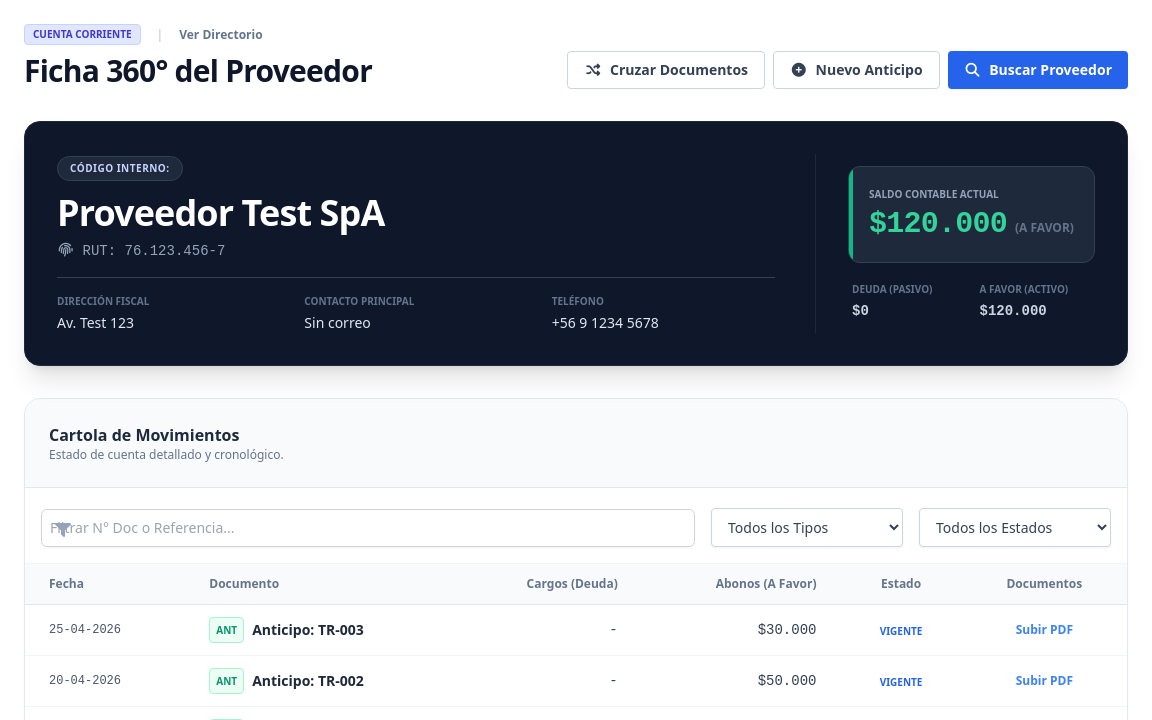
Test: VisorProveedor - anticipos con saldo parcial › muestra badge PARCIAL en anticipo con saldo_disponible < monto_original
Expected: the heading "Proveedor Test SpA" is shown, [57, 188, 384, 237]
Click the button "Cruzar Documentos".
click(666, 70)  # box [568, 51, 765, 89]
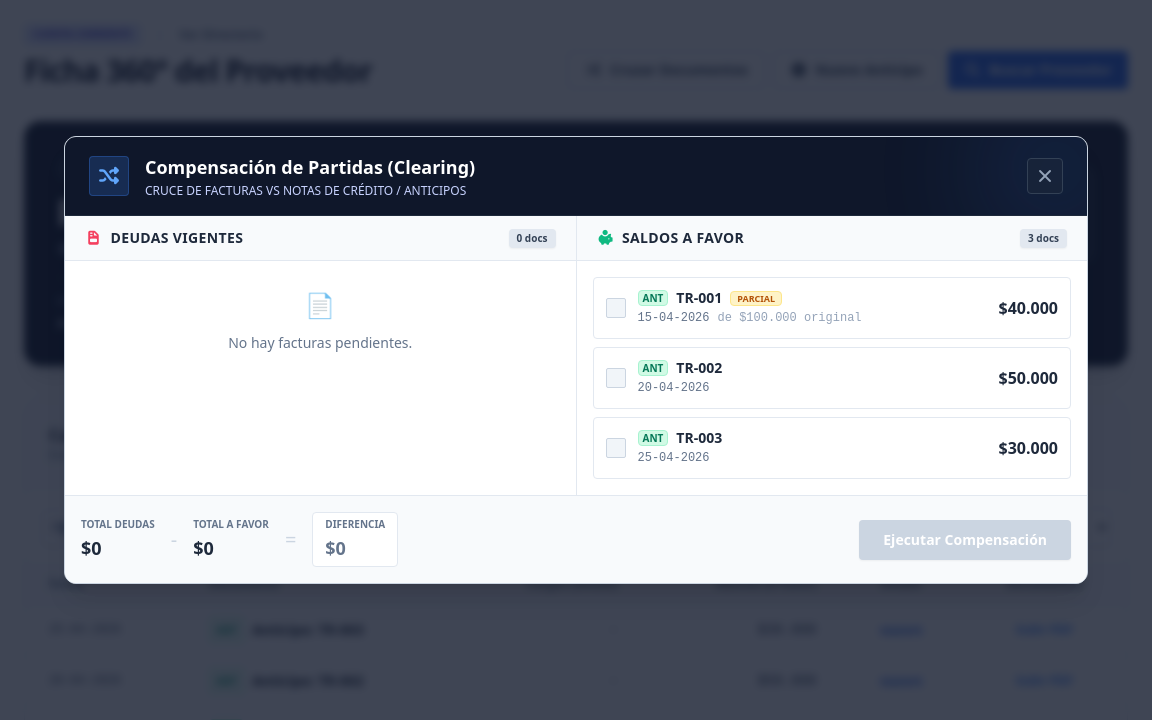
Now the text "PARCIAL" is shown, box [730, 290, 782, 306]
